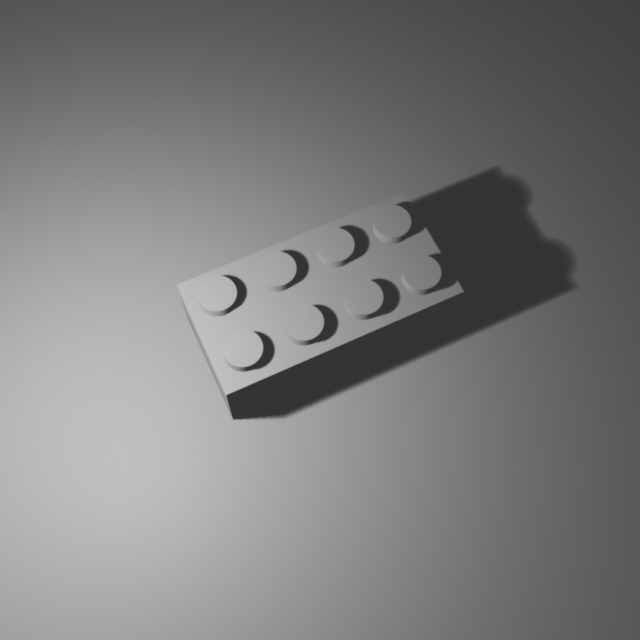lego_2x4: (175, 185, 466, 420)
